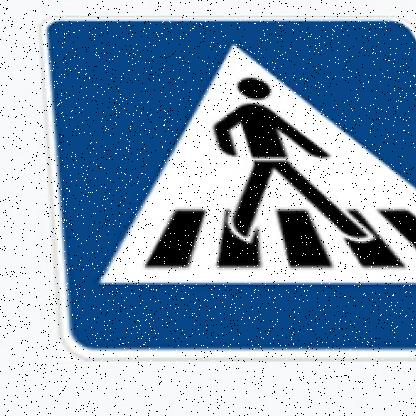Pedestrian Crossing: (36, 11, 416, 363)
